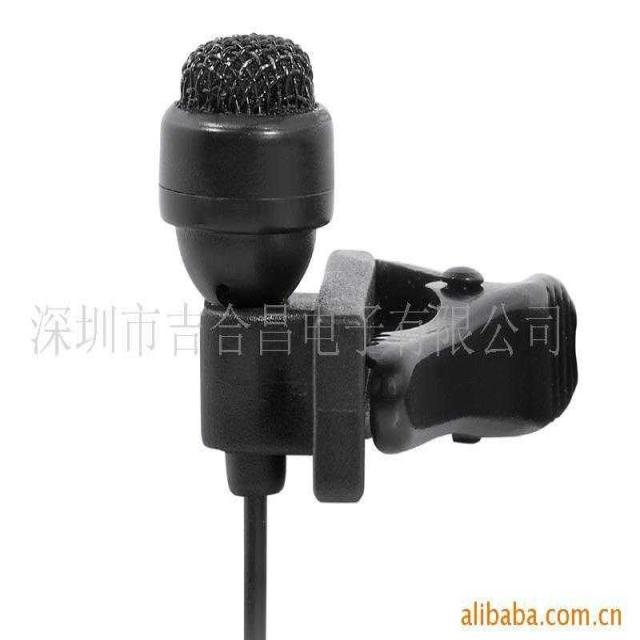microphone: (165, 12, 341, 604)
